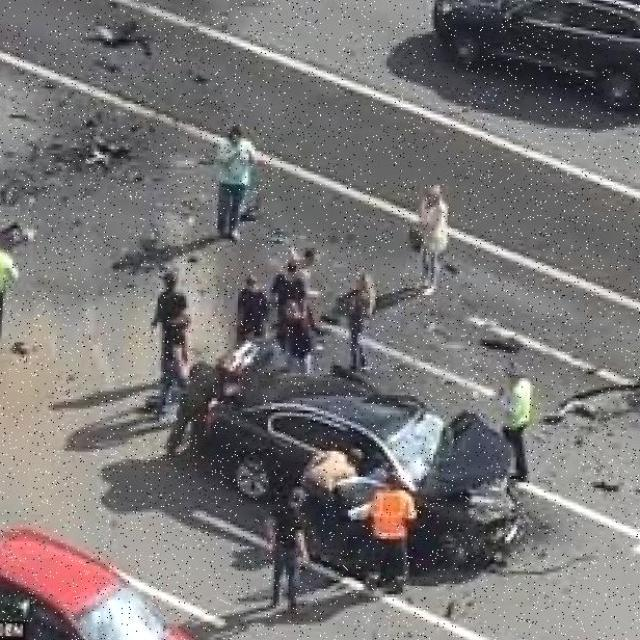accident: (161, 285, 559, 592)
